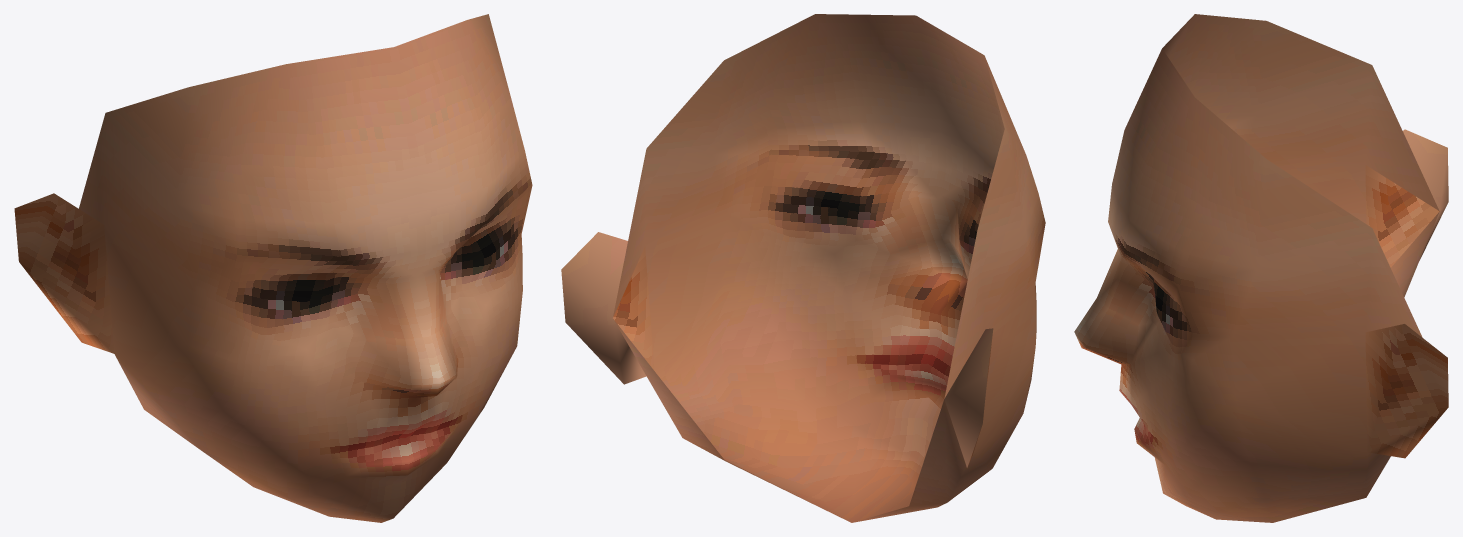
The picture shows the model from 3 angles, left to right: view 1: azimuth 30°, elevation 25°; view 2: azimuth 150°, elevation 25°; view 3: azimuth 270°, elevation 25°; orthographic projection. The views are drawn at different scales.
Parts seen in each view (by area): view 1: editpl_f-0000-1860, editpl_f-0000-1859; view 2: editpl_f-0000-1860, editpl_f-0000-1859; view 3: editpl_f-0000-1860, editpl_f-0000-1859.
Boxes of the visible parts, x1,y1,x2,y2 form: editpl_f-0000-1860: (14, 14, 532, 462); editpl_f-0000-1859: (104, 225, 482, 522); editpl_f-0000-1860: (561, 14, 1045, 467); editpl_f-0000-1859: (613, 246, 1035, 522); editpl_f-0000-1860: (1074, 14, 1448, 481); editpl_f-0000-1859: (1074, 165, 1439, 522).
Bounding box in the file's own units: 19.4 × 20.01 × 14.62.
